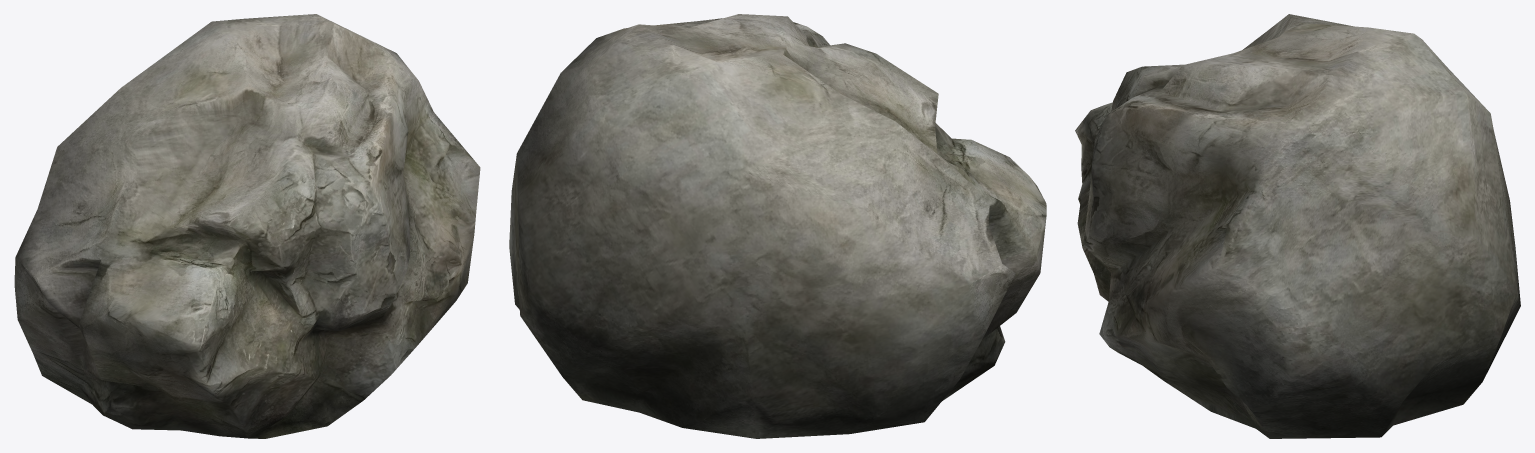
The model's file is rocher.glb.
3 views of the same model, side by side, from view 1: azimuth 30°, elevation 25°; view 2: azimuth 150°, elevation 25°; view 3: azimuth 270°, elevation 25° (orthographic). The views are drawn at different scales.
Parts seen in each view (by area): view 1: tripo_node_796ade56-1edc-45ee-8e4a-e2e67349ad6b; view 2: tripo_node_796ade56-1edc-45ee-8e4a-e2e67349ad6b; view 3: tripo_node_796ade56-1edc-45ee-8e4a-e2e67349ad6b.
Part boxes in pixels (box(x1,y1,x2,y2)): tripo_node_796ade56-1edc-45ee-8e4a-e2e67349ad6b: box(14, 14, 480, 438); tripo_node_796ade56-1edc-45ee-8e4a-e2e67349ad6b: box(509, 14, 1046, 438); tripo_node_796ade56-1edc-45ee-8e4a-e2e67349ad6b: box(1075, 14, 1520, 438).
Bounding box in the file's own units: 0.9785 × 0.6562 × 0.7927.
Materials: 1 (1 with a texture image).
